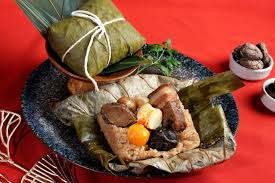zongzi: (97, 83, 199, 160), (48, 0, 144, 76)
